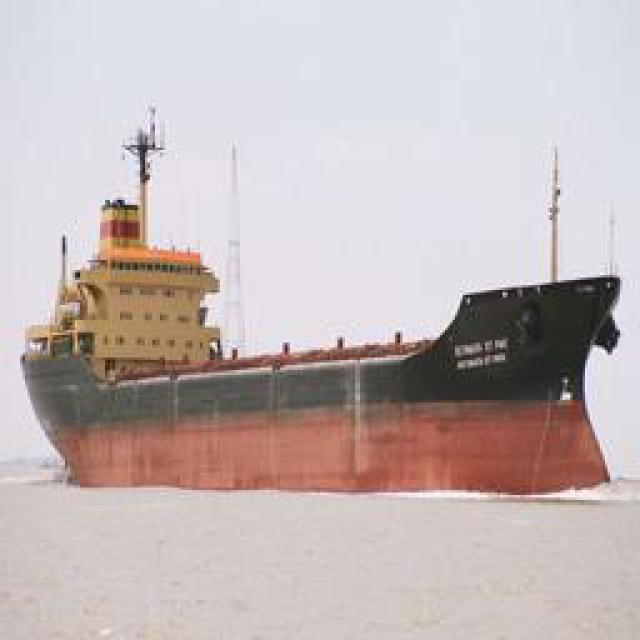Ship: (25, 168, 620, 483)
